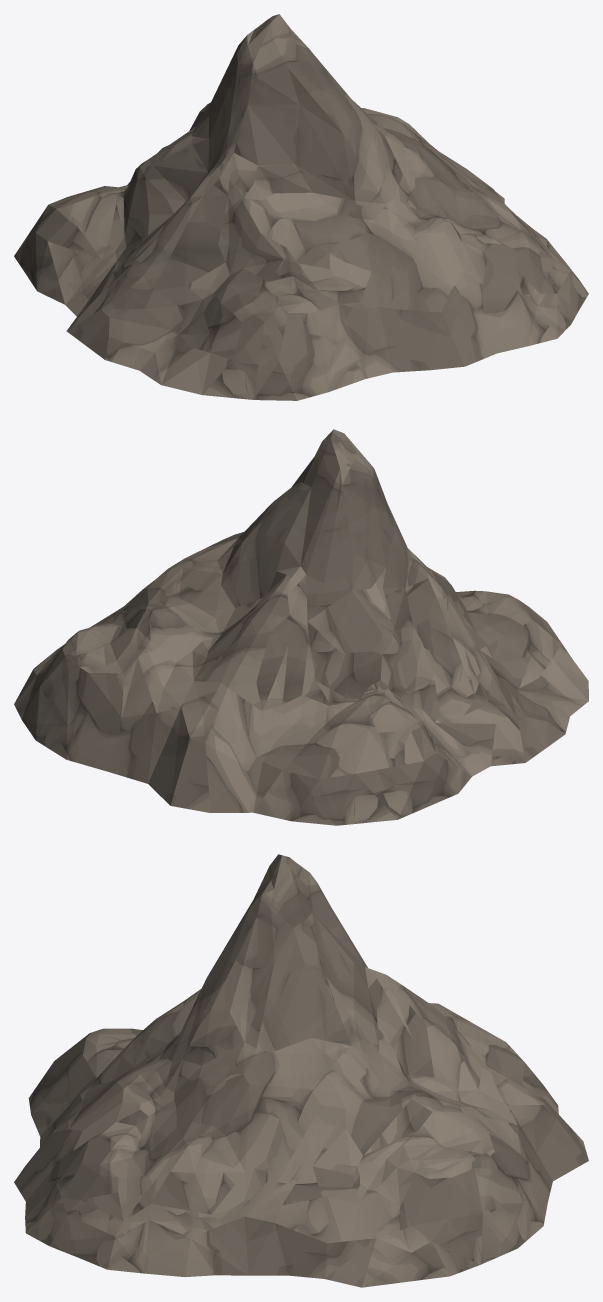
Rendered from synty-terrain-mountain-02.gltf.
The picture shows the model from 3 angles, top to bottom: view 1: azimuth 30°, elevation 25°; view 2: azimuth 150°, elevation 25°; view 3: azimuth 270°, elevation 25°; orthographic projection. The views are drawn at different scales.
Visible parts, largest first — view 1: SM_Terrain_Mountain_02; view 2: SM_Terrain_Mountain_02; view 3: SM_Terrain_Mountain_02.
Part boxes in pixels (<box>): SM_Terrain_Mountain_02: <box>14,14,588,400</box>; SM_Terrain_Mountain_02: <box>14,429,588,825</box>; SM_Terrain_Mountain_02: <box>14,854,588,1287</box>.
Size of the model in its own units: 29.09 by 16.48 by 29.08.
1 material, 1 textured.
